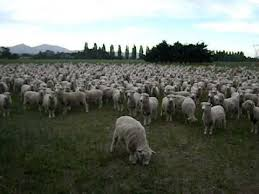sheep: (110, 114, 157, 167), (198, 98, 227, 134), (54, 86, 87, 114), (138, 91, 160, 125), (180, 93, 199, 127), (78, 86, 106, 109), (242, 97, 259, 132), (122, 87, 141, 118), (23, 88, 45, 113), (161, 91, 177, 124), (42, 92, 58, 117), (111, 89, 127, 114), (1, 90, 14, 119)
